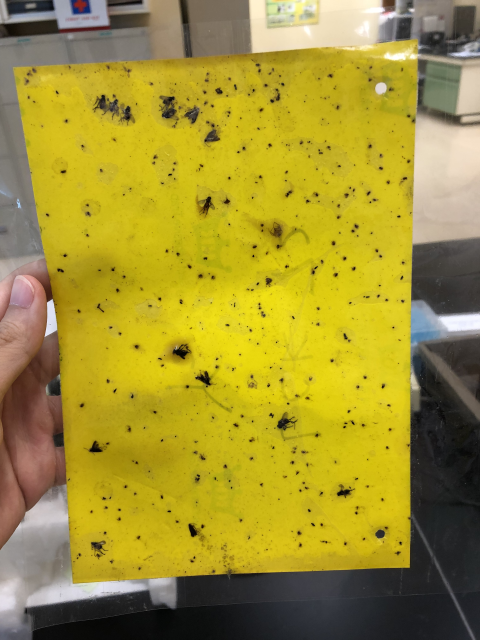DBM: (200, 127, 223, 148), (183, 102, 201, 126), (186, 521, 202, 541)
